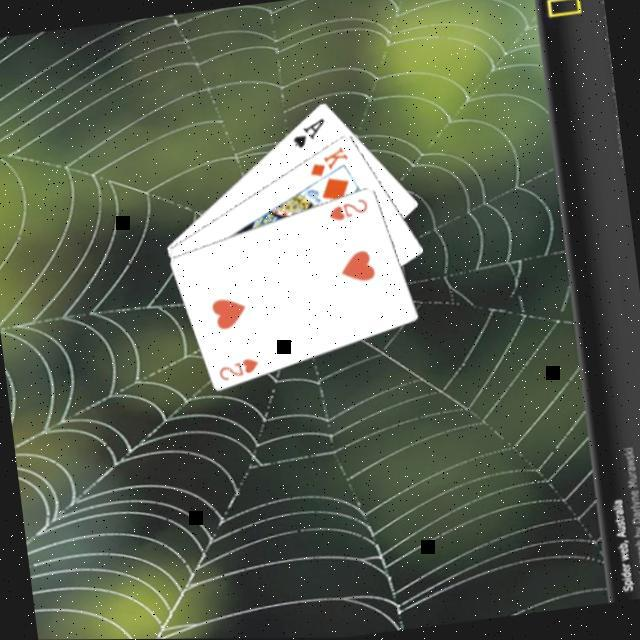2H: (211, 354, 261, 386), (322, 196, 370, 227)
AS: (285, 115, 329, 154)
KD: (301, 144, 351, 181)
